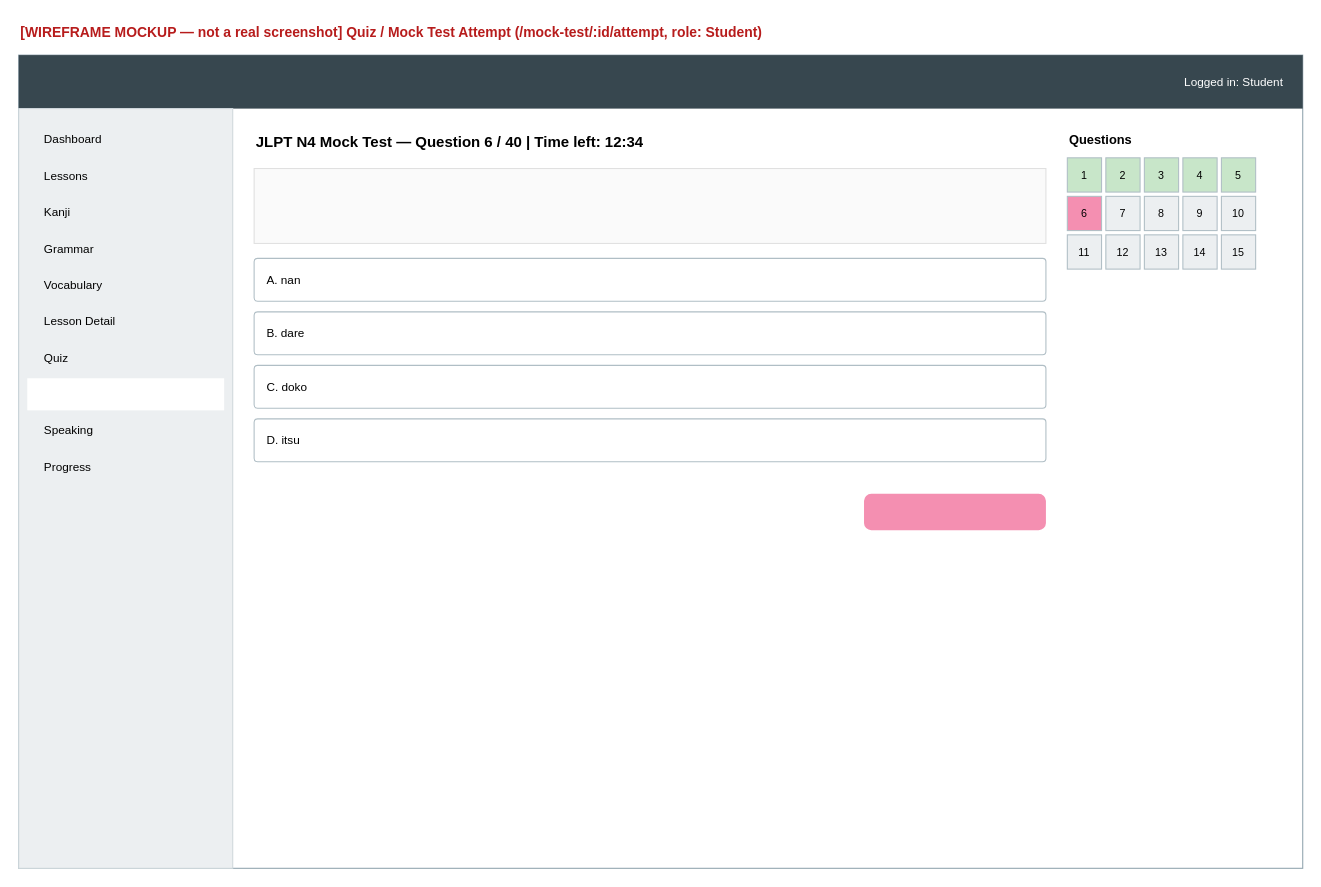
Some shapes in this 1321 by 887 pixel diagram are drawn without their labels. Each missing label, with the box of its shape:
Mock Test: (27, 378, 224, 410)
Next Question →: (863, 493, 1045, 530)
Q6. Kore wa ___ desu ka? (nan / dare / doko / itsu): (253, 167, 1046, 243)
SakuJi — Student area: (18, 55, 1302, 108)
